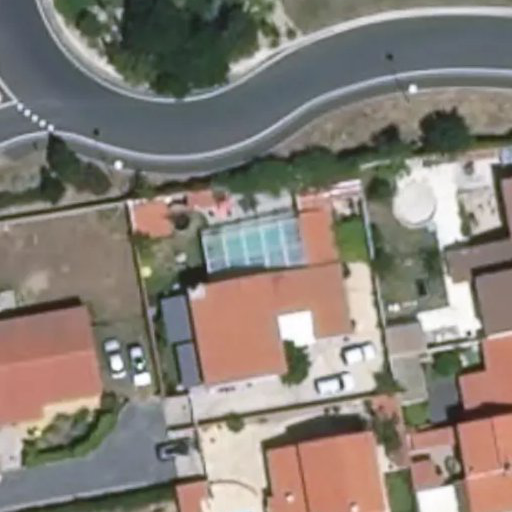pool: (223, 234, 289, 250)
